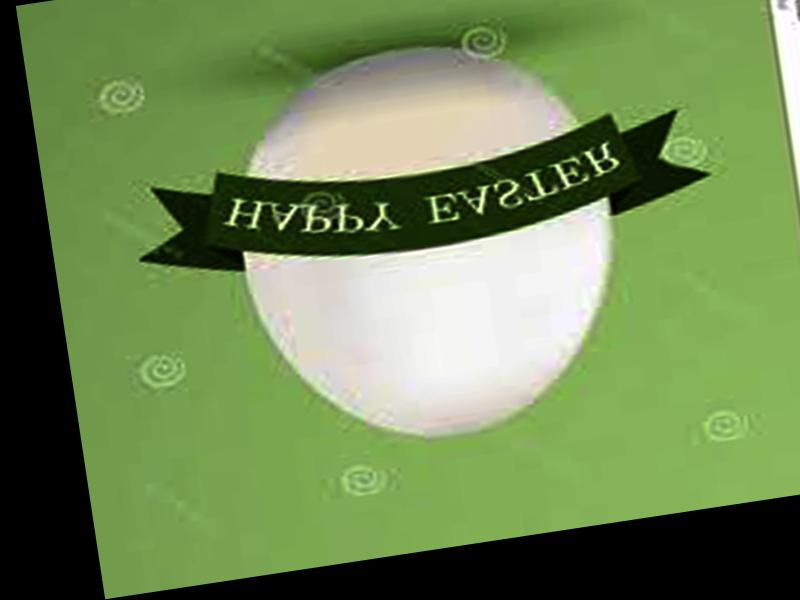Eggs: (220, 23, 642, 461)
